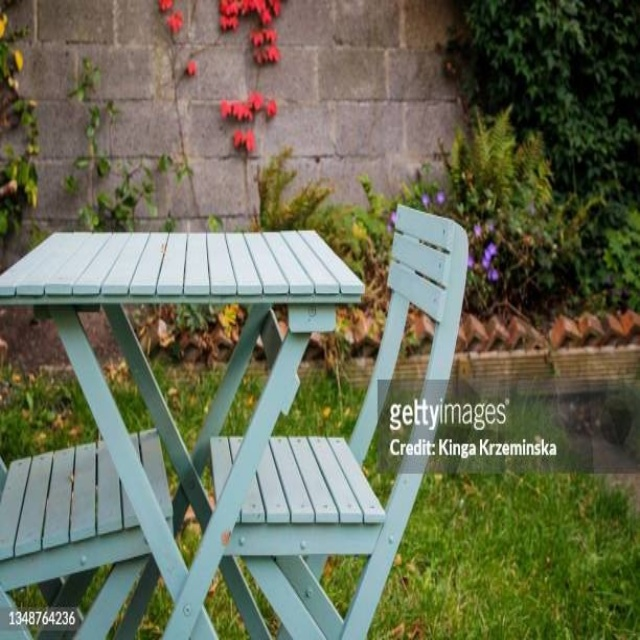obstacle: (0, 205, 466, 637)
